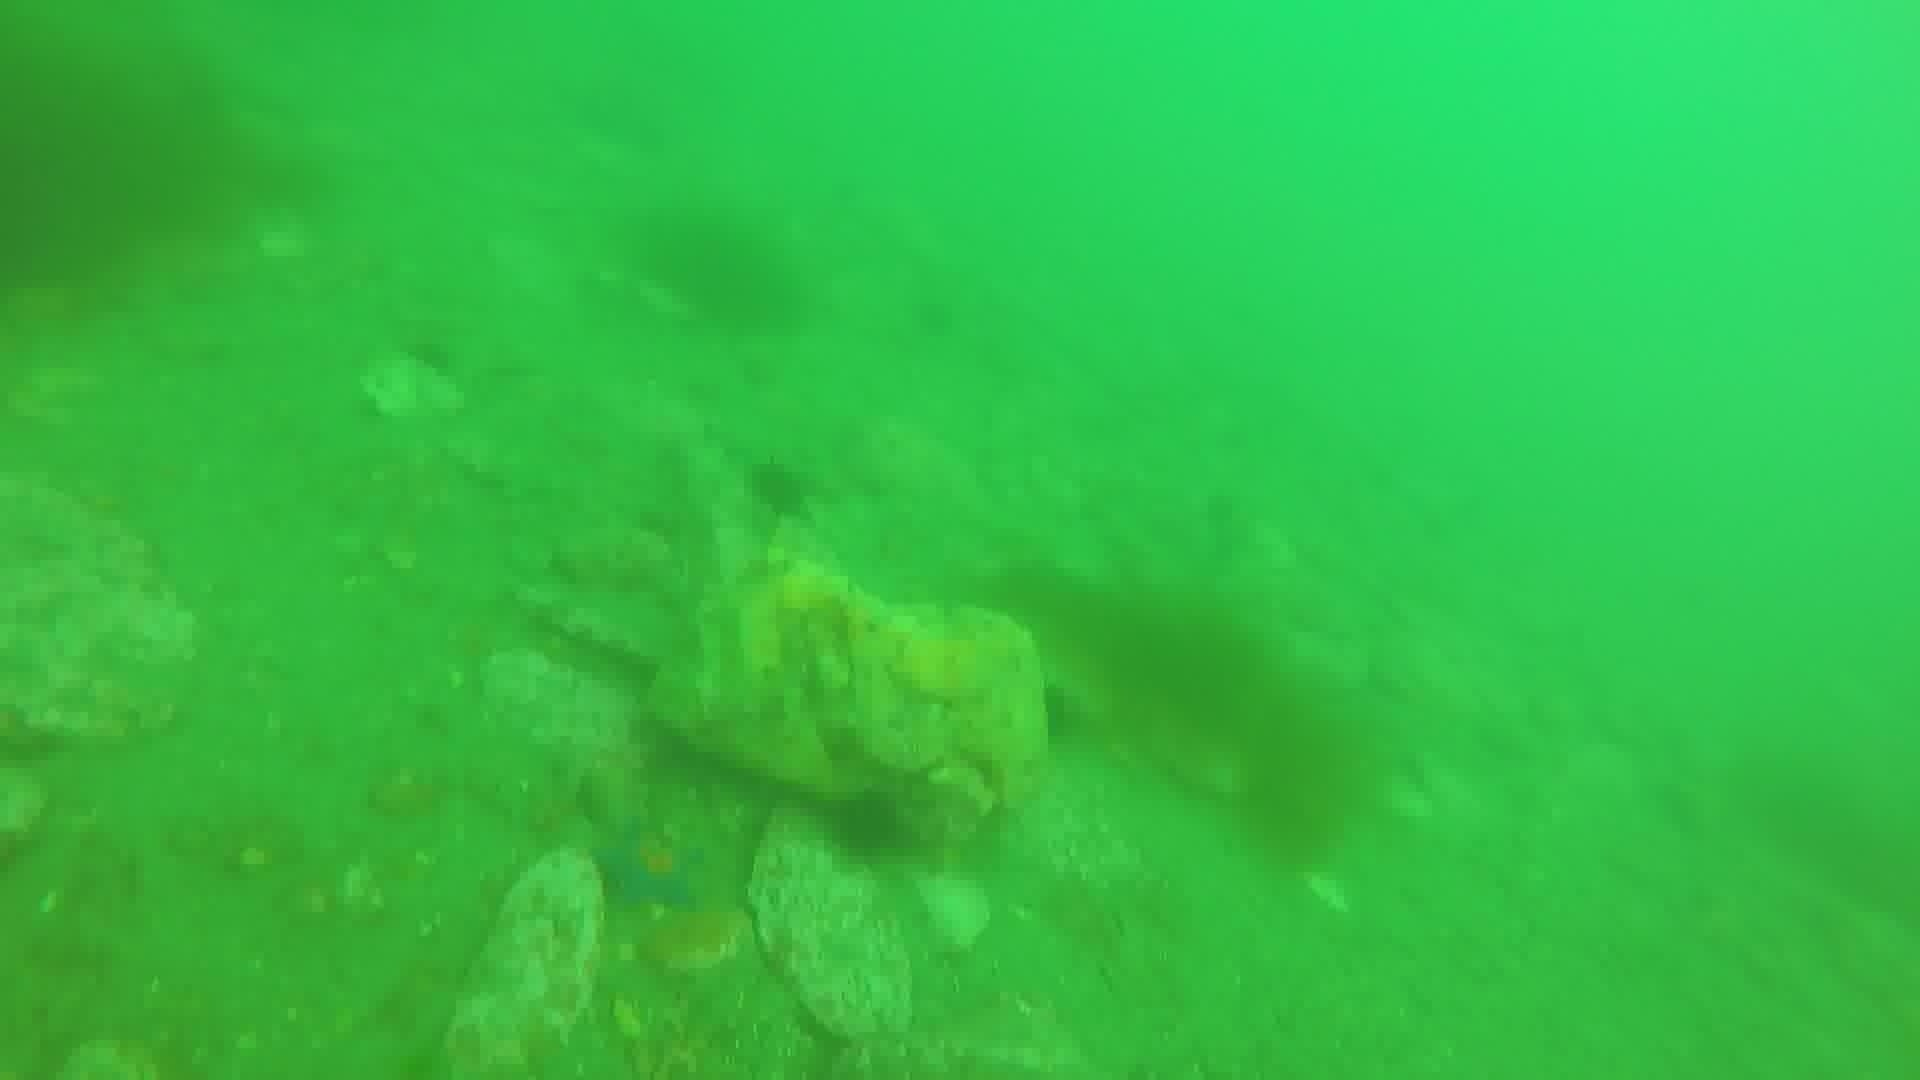echinus: (820, 785, 914, 866), (740, 455, 818, 524)
starfish: (591, 818, 711, 916)
